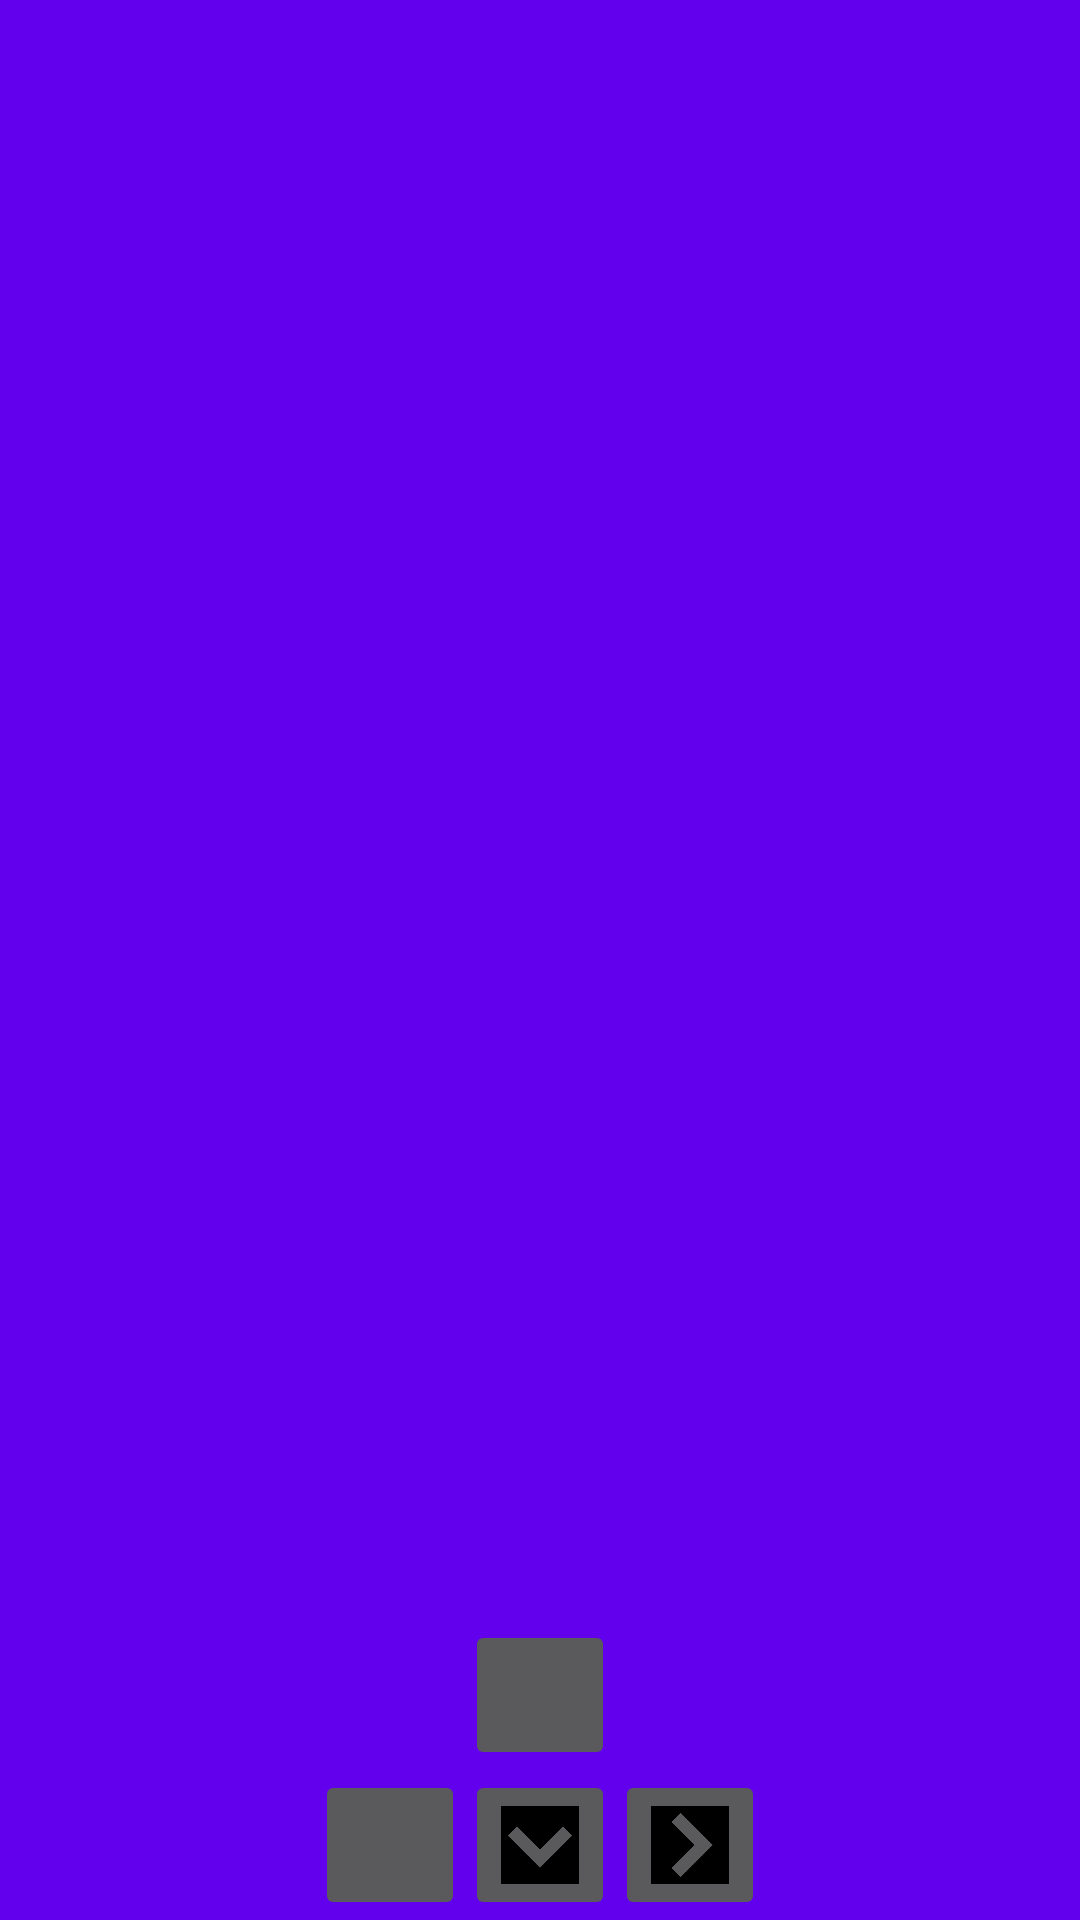

Locate icon controls on the screen. Image size 1080w x 1920h, boxes as (x1, y1, x2, y2).
down arrow: (477, 1788, 603, 1902)
right arrow: (627, 1788, 753, 1902)
